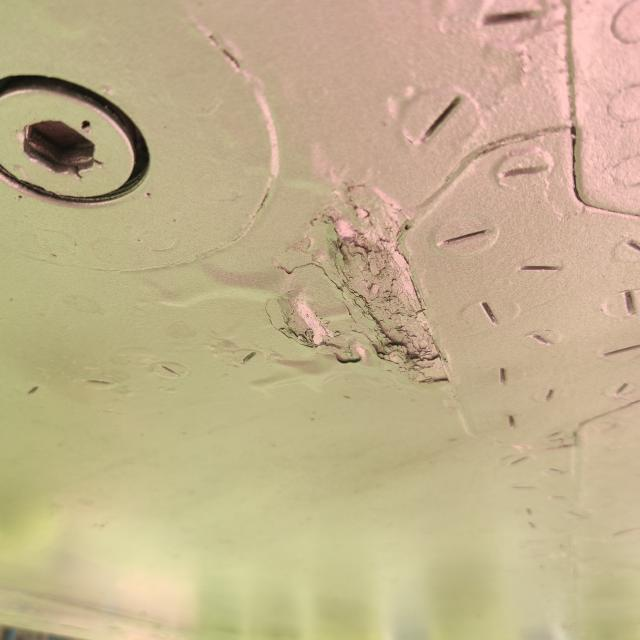Paint-off: (266, 183, 449, 382)
